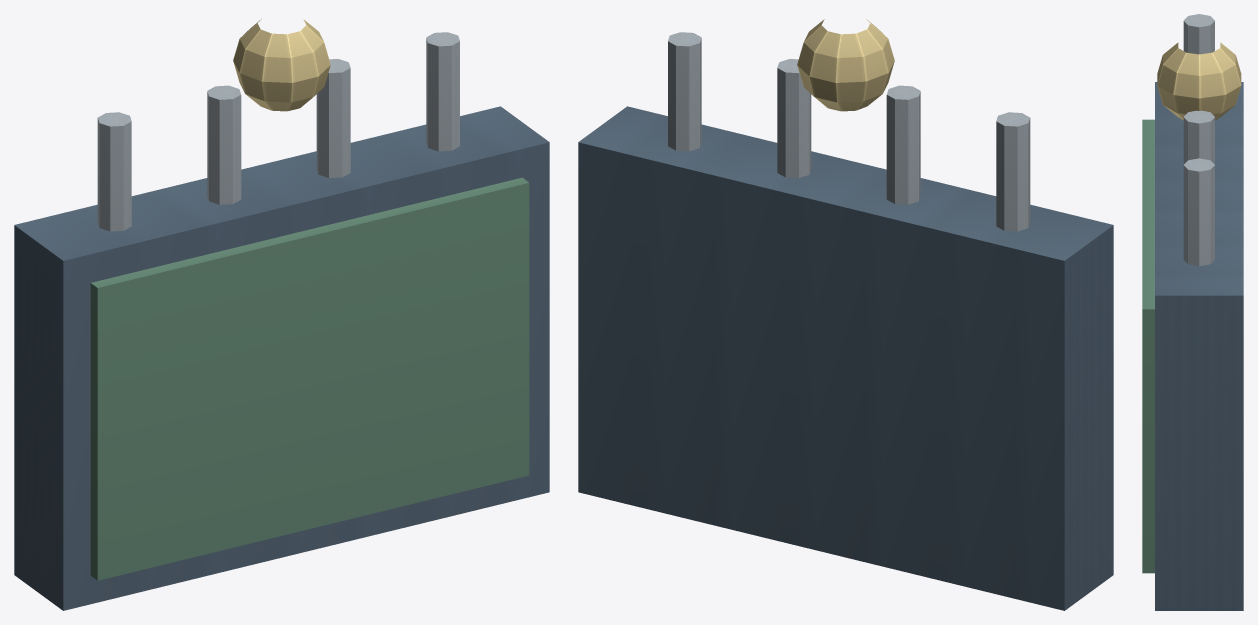
Rendered from board_school.glb.
3 views of the same model, side by side, from view 1: azimuth 30°, elevation 25°; view 2: azimuth 150°, elevation 25°; view 3: azimuth 270°, elevation 25° (orthographic). The views are drawn at different scales.
Parts seen in each view (by area): view 1: board_school; view 2: board_school; view 3: board_school.
Part boxes in pixels (x1=…): board_school: x1=14, y1=19, x2=549, y2=610; board_school: x1=578, y1=19, x2=1113, y2=610; board_school: x1=1142, y1=14, x2=1243, y2=610.
Size of the model in its own units: 1.6 by 1.62 by 0.32.
1 material, 1 textured.
